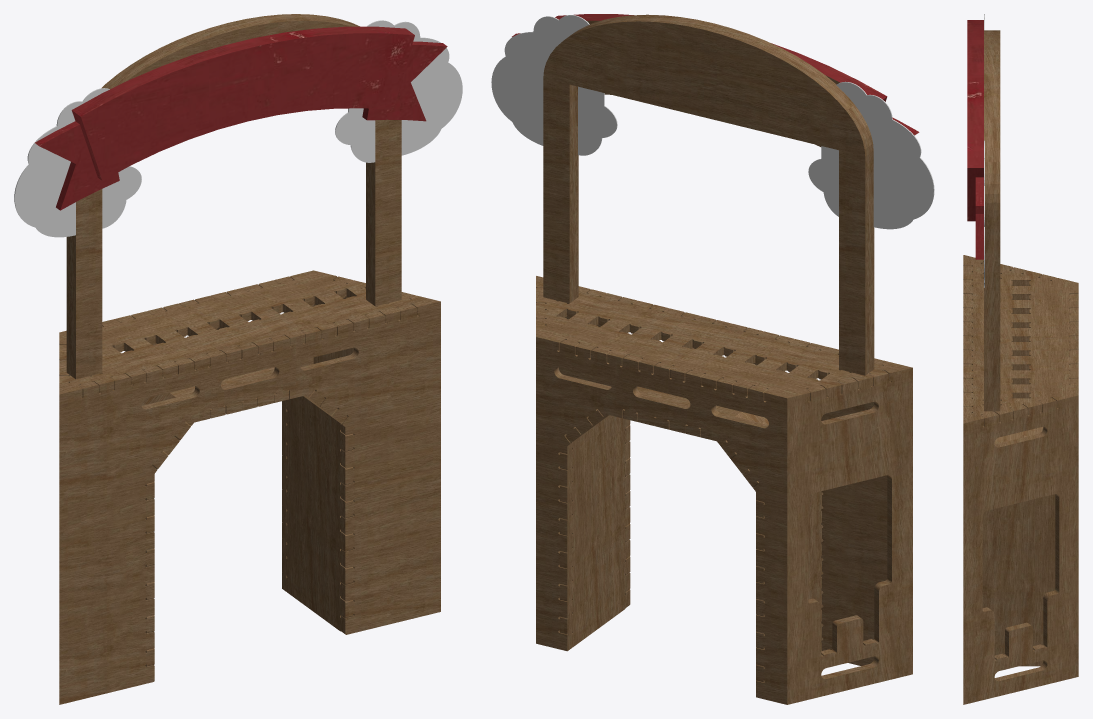
File: puppet.glb
3 views of the same model, side by side, from view 1: azimuth 30°, elevation 25°; view 2: azimuth 150°, elevation 25°; view 3: azimuth 270°, elevation 25° (orthographic). The views are drawn at different scales.
Parts seen in each view (by area): view 1: Assem62; view 2: Assem62; view 3: Assem62.
Part boxes in pixels (x1,y1,x2,y2): Assem62: [14, 14, 462, 704]; Assem62: [491, 14, 934, 704]; Assem62: [963, 14, 1078, 704].
Size of the model in its own units: 1.07 by 1.42 by 0.2639.
3 materials, 2 textured.
